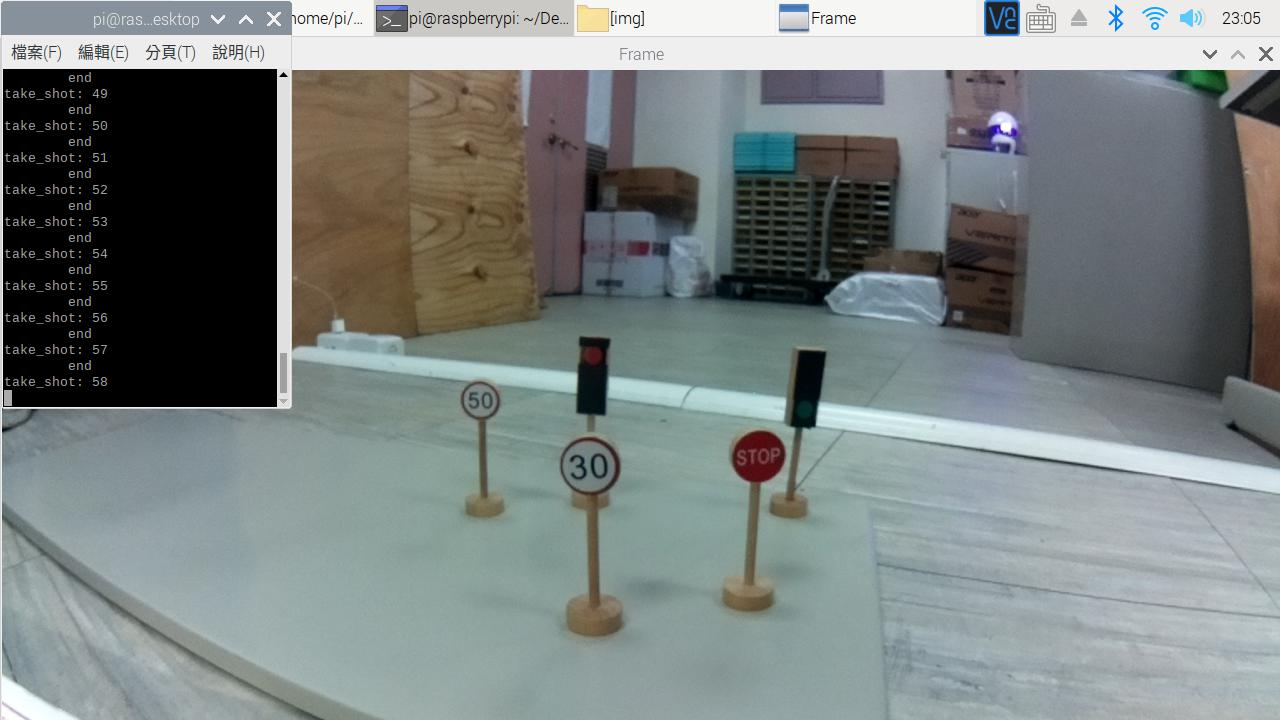Green: (790, 351, 822, 427)
Red: (576, 334, 612, 418)
Speed30: (558, 433, 627, 498)
Speed50: (464, 383, 501, 418)
Stop: (728, 425, 789, 486)
